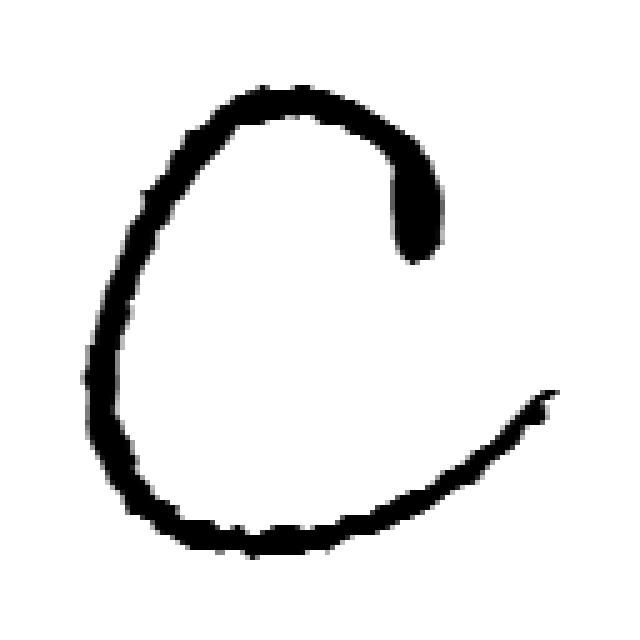C: (80, 85, 560, 565)
